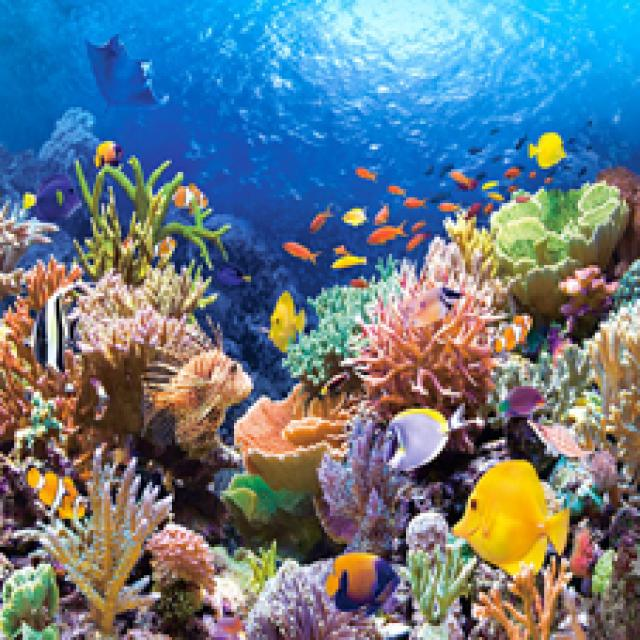Healthy: (500, 300, 638, 480), (32, 455, 170, 635), (80, 266, 207, 432), (351, 272, 492, 415), (77, 159, 227, 283), (492, 184, 627, 317), (289, 260, 399, 384), (235, 384, 348, 489), (317, 421, 404, 551), (246, 562, 373, 638), (1, 303, 60, 441), (427, 212, 500, 294), (410, 548, 475, 624), (148, 525, 212, 587), (4, 568, 57, 638), (407, 514, 444, 554)
